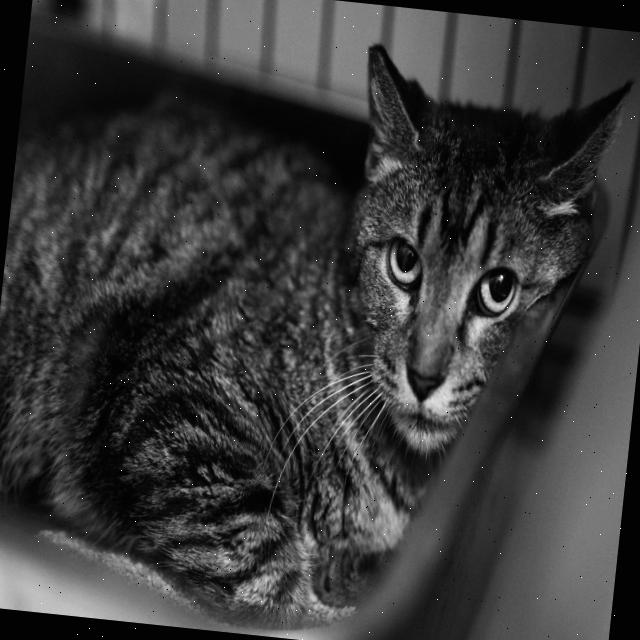american_shorthair_cat: (322, 38, 640, 485)
